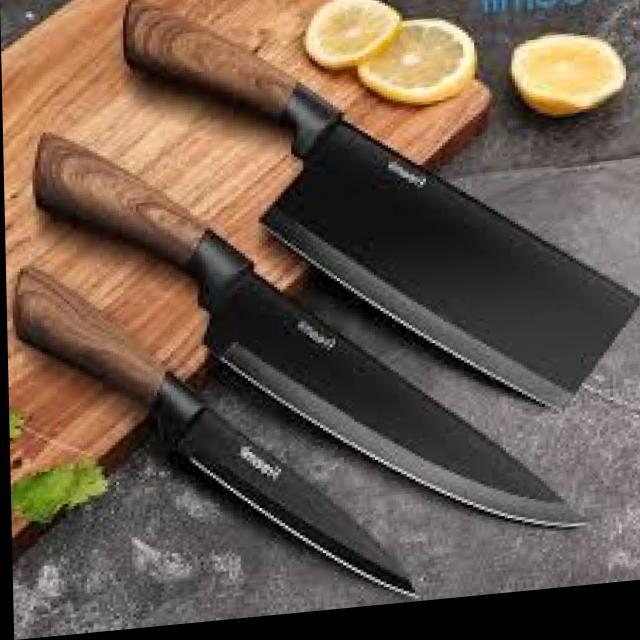knife: (33, 133, 589, 533), (119, 0, 640, 416), (14, 261, 422, 602)
